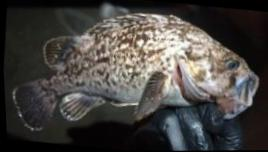fish: (11, 13, 259, 132)
